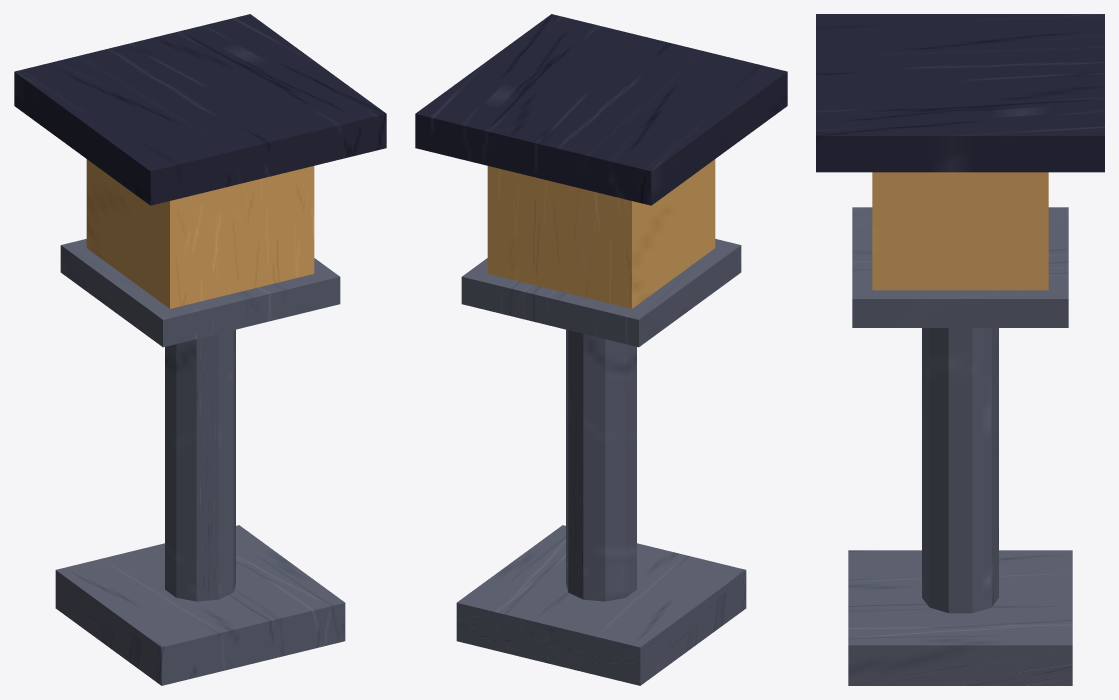
The model's file is dojo_stone_lantern_lod1.glb.
3 views of the same model, side by side, from view 1: azimuth 30°, elevation 25°; view 2: azimuth 150°, elevation 25°; view 3: azimuth 270°, elevation 25° (orthographic). The views are drawn at different scales.
Visible parts, largest first — view 1: dojo_stone_lantern_004, dojo_stone_lantern_000, dojo_stone_lantern_003, dojo_stone_lantern_001, dojo_stone_lantern_002; view 2: dojo_stone_lantern_004, dojo_stone_lantern_000, dojo_stone_lantern_003, dojo_stone_lantern_001, dojo_stone_lantern_002; view 3: dojo_stone_lantern_004, dojo_stone_lantern_000, dojo_stone_lantern_001, dojo_stone_lantern_003, dojo_stone_lantern_002.
Part boxes in pixels (x1=…): dojo_stone_lantern_004: x1=14, y1=14, x2=386, y2=205; dojo_stone_lantern_000: x1=55, y1=525, x2=345, y2=685; dojo_stone_lantern_003: x1=86, y1=159, x2=314, y2=308; dojo_stone_lantern_001: x1=165, y1=329, x2=235, y2=601; dojo_stone_lantern_002: x1=60, y1=239, x2=340, y2=347; dojo_stone_lantern_004: x1=415, y1=14, x2=787, y2=205; dojo_stone_lantern_000: x1=456, y1=525, x2=746, y2=685; dojo_stone_lantern_003: x1=487, y1=159, x2=715, y2=308; dojo_stone_lantern_001: x1=566, y1=329, x2=636, y2=601; dojo_stone_lantern_002: x1=461, y1=239, x2=741, y2=347; dojo_stone_lantern_004: x1=816, y1=14, x2=1104, y2=172; dojo_stone_lantern_000: x1=848, y1=550, x2=1072, y2=685; dojo_stone_lantern_001: x1=922, y1=328, x2=998, y2=613; dojo_stone_lantern_003: x1=872, y1=172, x2=1048, y2=290; dojo_stone_lantern_002: x1=852, y1=207, x2=1068, y2=327.
Bounding box in the file's own units: 1.8 × 3.88 × 1.8.
Materials: 3 (3 with a texture image).
